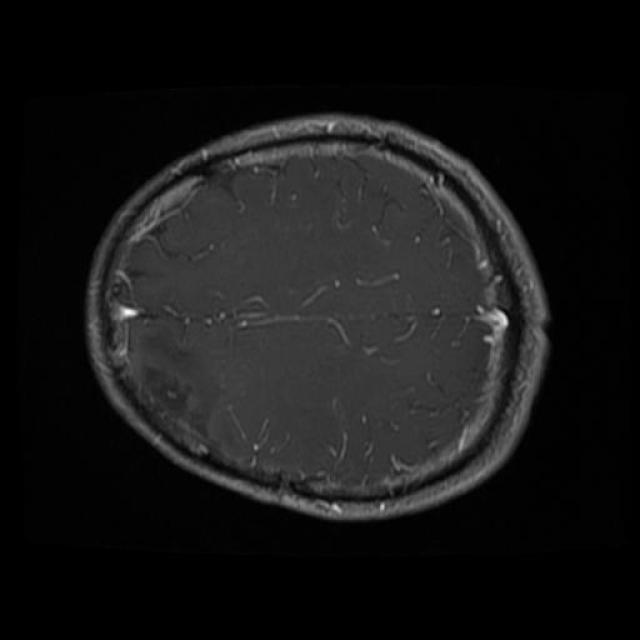Glioma: (131, 321, 219, 436)
